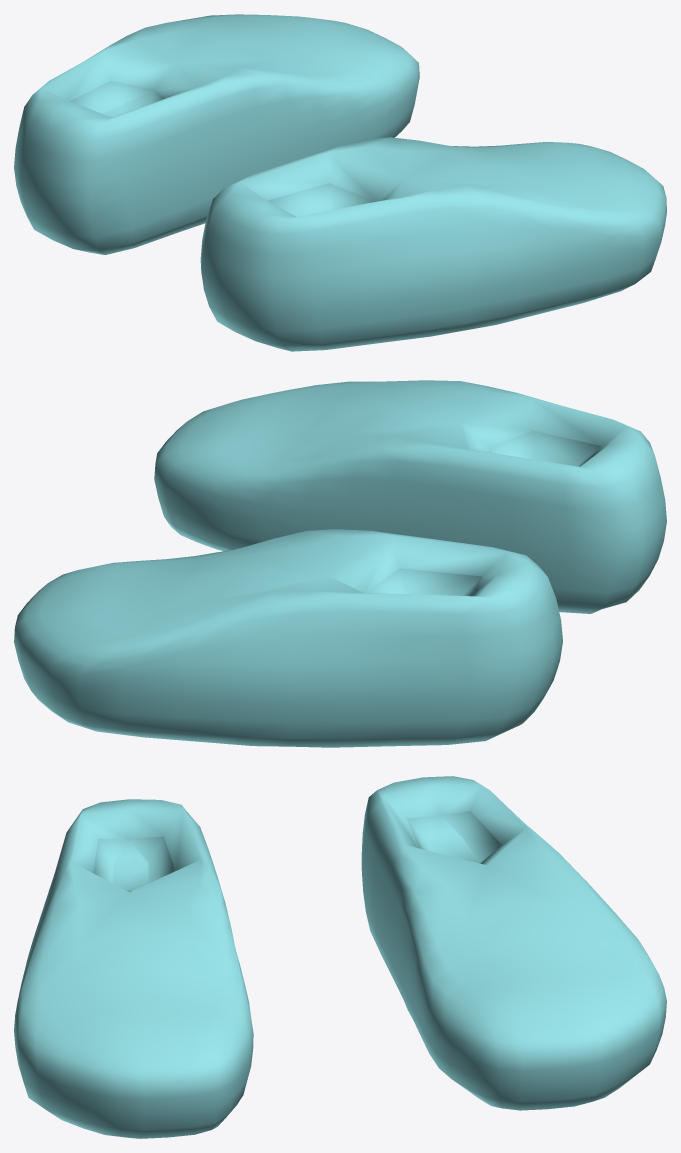
File: shoes.fbx
3 renders of one model, top to bottom at view 1: azimuth 30°, elevation 25°; view 2: azimuth 150°, elevation 25°; view 3: azimuth 270°, elevation 25°, orthographic. The views are drawn at different scales.
Parts seen in each view (by area): view 1: shoes; view 2: shoes; view 3: shoes.
Part boxes in pixels (x1,y1,x2,y2): shoes: (14, 14, 666, 351); shoes: (14, 380, 666, 747); shoes: (14, 776, 666, 1138).
Bounding box in the file's own units: 30.1 × 8.58 × 34.42.
